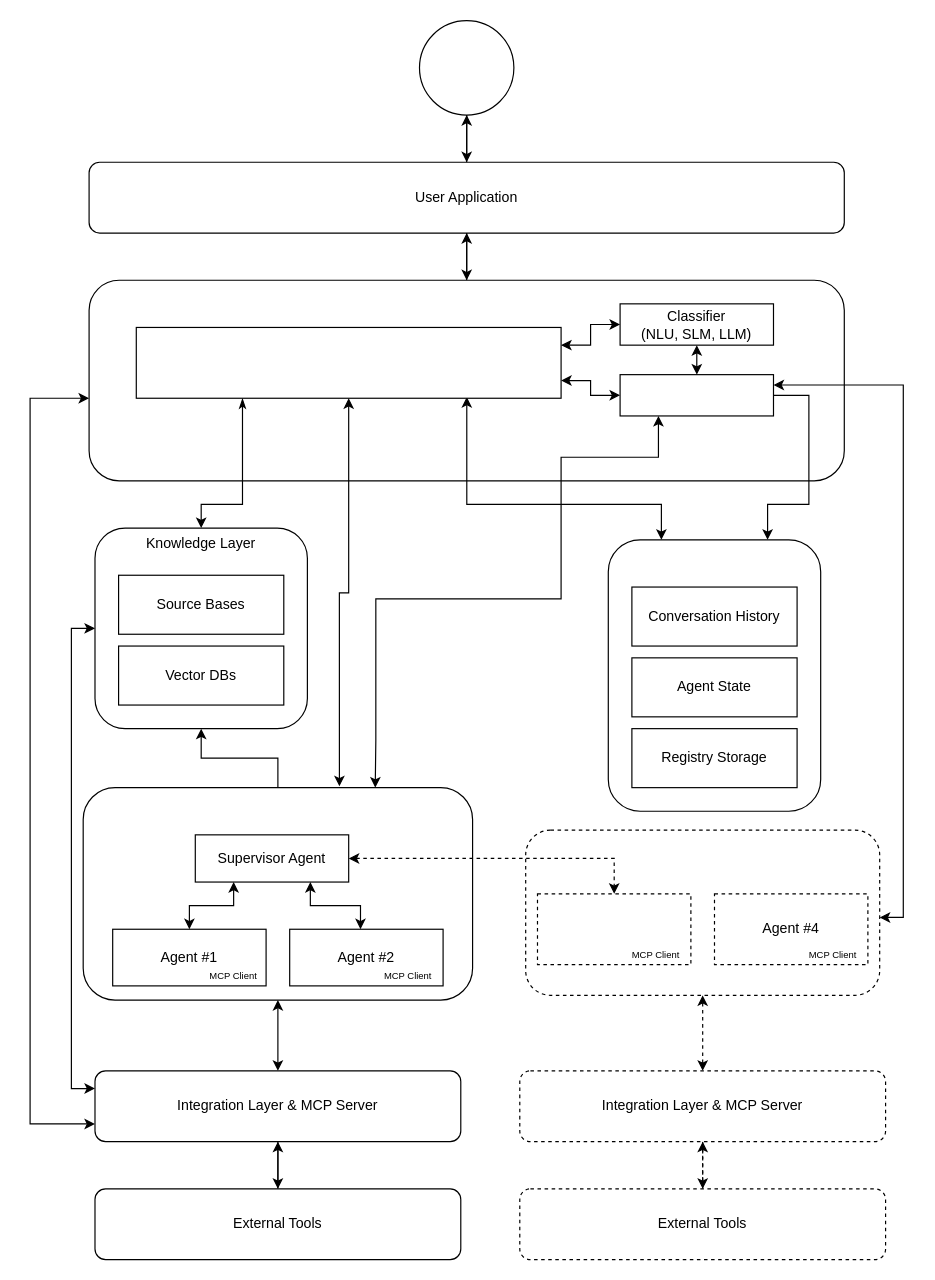
This 935x1280 diagram has some shape labels left out. Each missing label, with the box of its shape:
Agent #3: (536, 893, 691, 965)
Agent Layer (Local): (82, 786, 473, 1000)
Agent Layer (Remote): (525, 829, 880, 995)
Agent Registry: (619, 373, 773, 416)
Orchestration Layer: (88, 279, 844, 481)
Orchestrator (Semantic-Kernel): (135, 326, 561, 398)
Storage Layer: (607, 539, 821, 811)
User: (418, 19, 514, 115)
